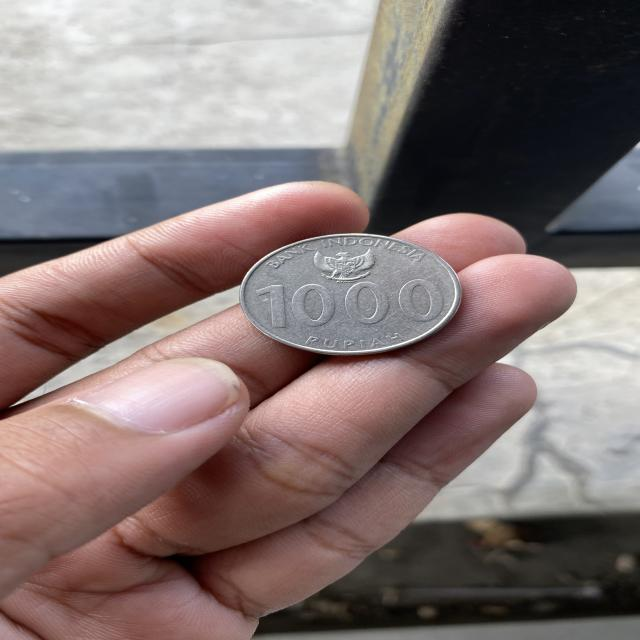1000-angklung: (240, 234, 460, 355)
